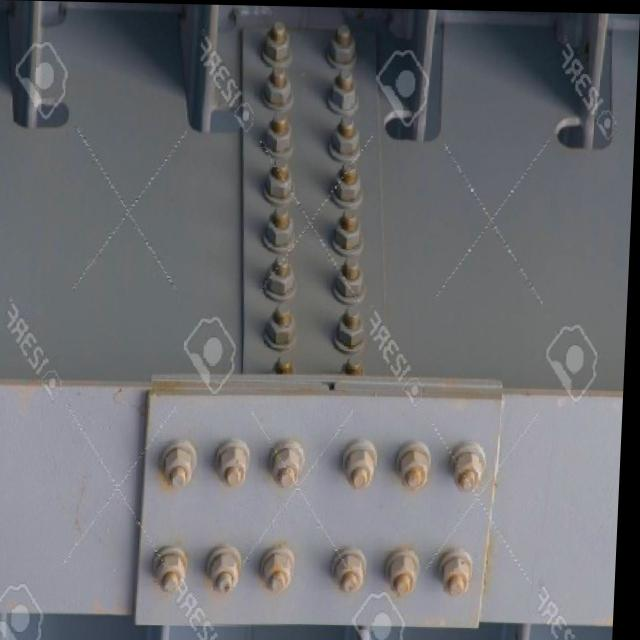Regular bolt: (390, 437, 452, 490), (342, 437, 390, 497), (212, 436, 261, 493), (161, 437, 211, 491), (267, 437, 317, 488), (205, 539, 251, 594), (152, 545, 198, 600), (332, 545, 378, 597), (440, 549, 486, 598), (265, 543, 307, 596), (388, 544, 428, 599), (258, 16, 300, 66), (454, 439, 498, 485), (326, 116, 366, 164), (259, 207, 303, 250), (260, 256, 302, 298), (259, 114, 300, 155), (333, 207, 370, 250), (334, 259, 369, 304), (267, 306, 303, 349), (329, 164, 367, 203), (264, 159, 302, 198), (262, 67, 297, 108), (330, 69, 363, 112), (325, 21, 357, 64), (336, 308, 370, 346)
